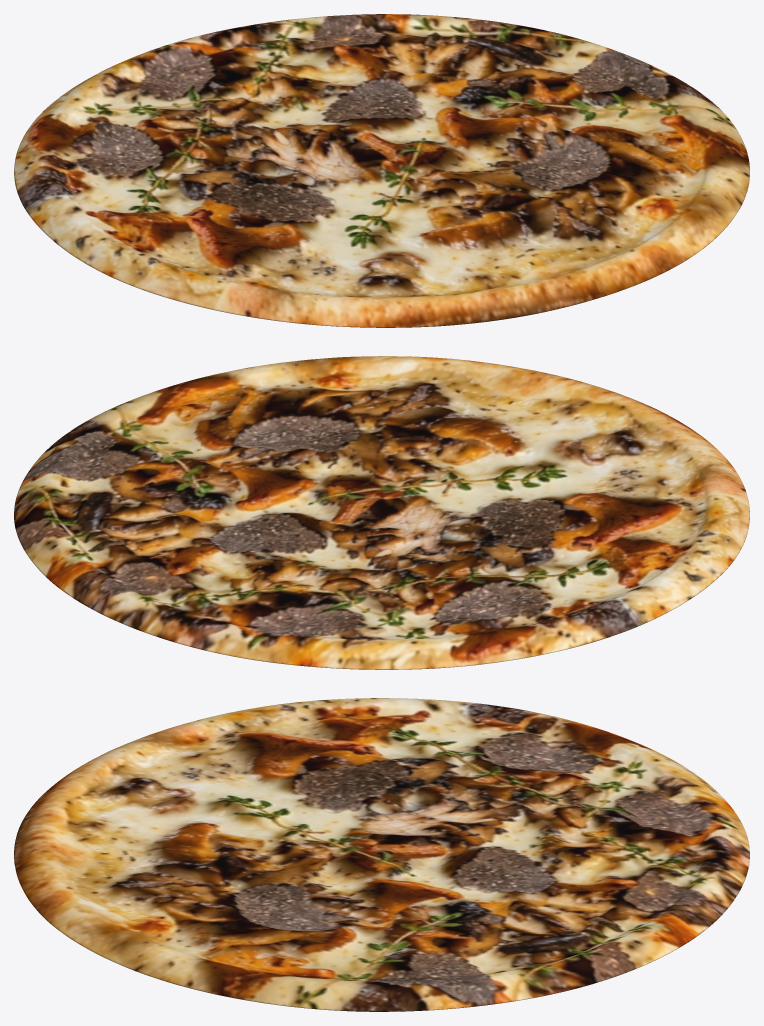
The model's file is mushroom-truffle-pizza-ultralight.glb.
3 views of the same model, one above another, from view 1: azimuth 30°, elevation 25°; view 2: azimuth 150°, elevation 25°; view 3: azimuth 270°, elevation 25° (orthographic).
Parts seen in each view (by area): view 1: Artisan_Pizza; view 2: Artisan_Pizza; view 3: Artisan_Pizza.
Part boxes in pixels (<box>): Artisan_Pizza: <box>14,14,749,327</box>; Artisan_Pizza: <box>14,356,749,669</box>; Artisan_Pizza: <box>14,698,749,1011</box>.
Bounding box in the file's own units: 2.39 × 0.0555 × 2.39.
Materials: 1 (1 with a texture image).
